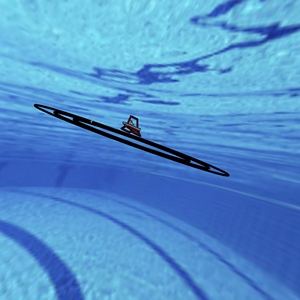circle: (19, 91, 240, 188)
submarine: (108, 106, 147, 141)
